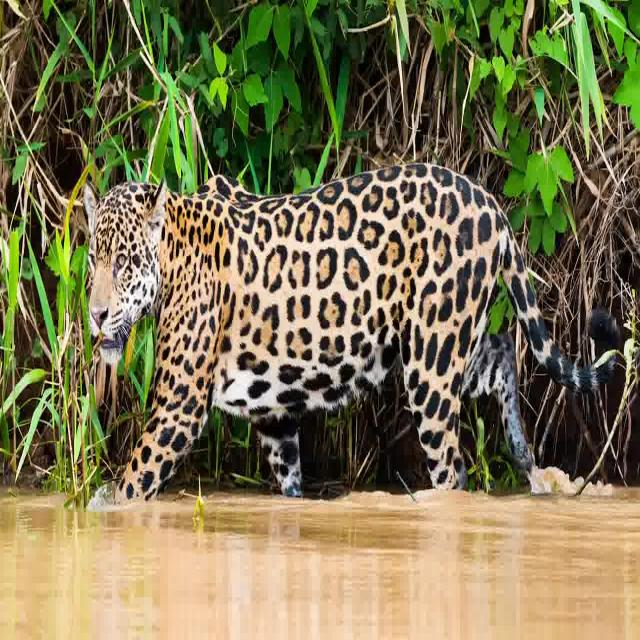Jaguar: (89, 168, 626, 542)
